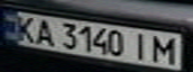0: (106, 28, 130, 57)
1: (75, 24, 93, 53)
3: (54, 20, 78, 51)
4: (90, 26, 109, 55)
A: (30, 17, 57, 47)
I: (127, 30, 154, 61)
K: (12, 12, 42, 43)
M: (148, 34, 184, 65)
